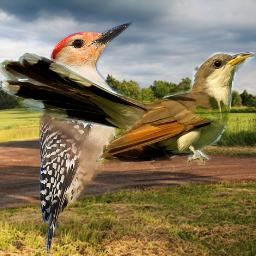Cuckoo: (0, 52, 254, 165)
Woodpecker: (39, 20, 133, 254)
